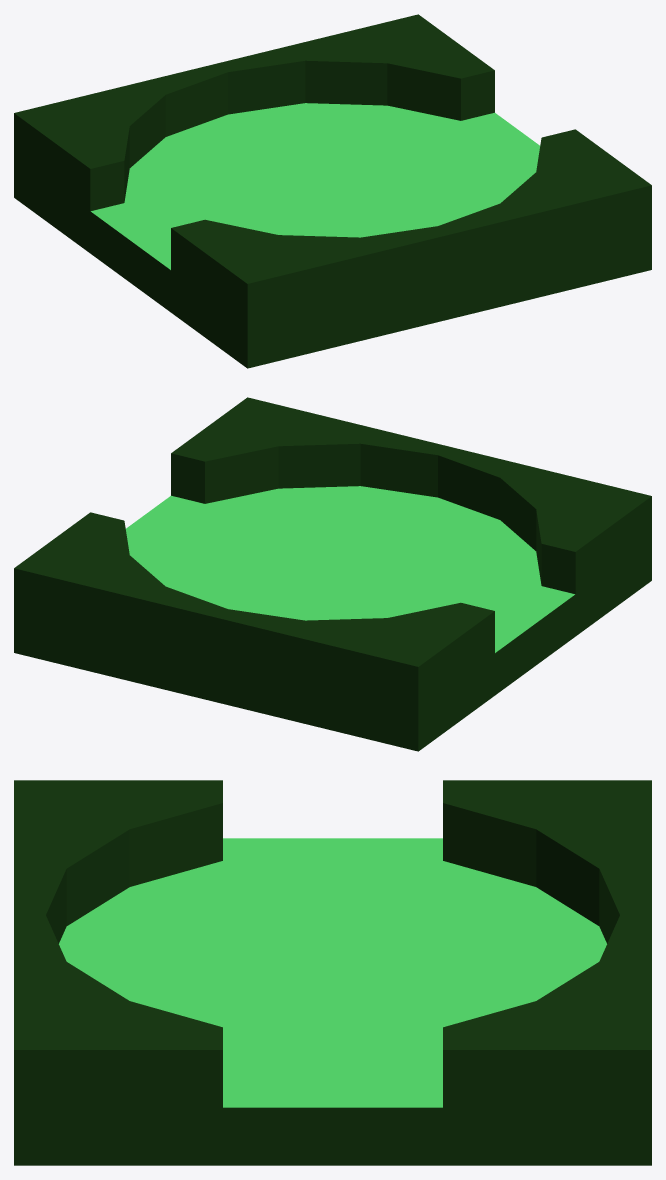
File: MG Straight Rounded.fbx
3 views of the same model, one above another, from view 1: azimuth 30°, elevation 25°; view 2: azimuth 150°, elevation 25°; view 3: azimuth 270°, elevation 25° (orthographic). The views are drawn at different scales.
Visible parts, largest first — view 1: MG Straight Rounded; view 2: MG Straight Rounded; view 3: MG Straight Rounded.
Boxes of the visible parts, box(x1,y1,x2,y2) form: MG Straight Rounded: box(14, 14, 651, 368); MG Straight Rounded: box(14, 397, 651, 751); MG Straight Rounded: box(14, 780, 651, 1165).
Size of the model in its own units: 200 by 40 by 200.
